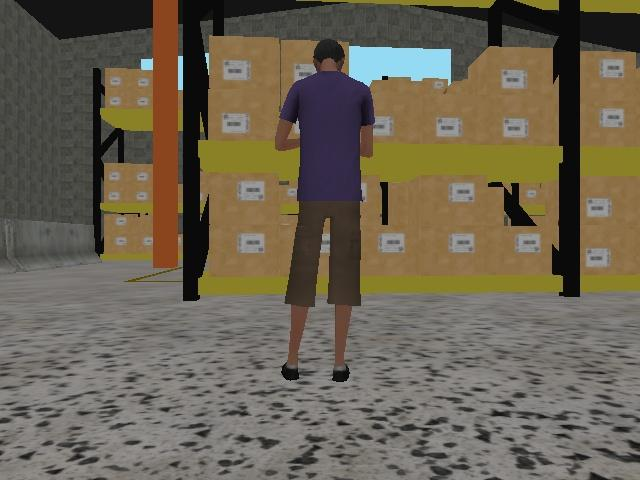person: (273, 36, 377, 383)
